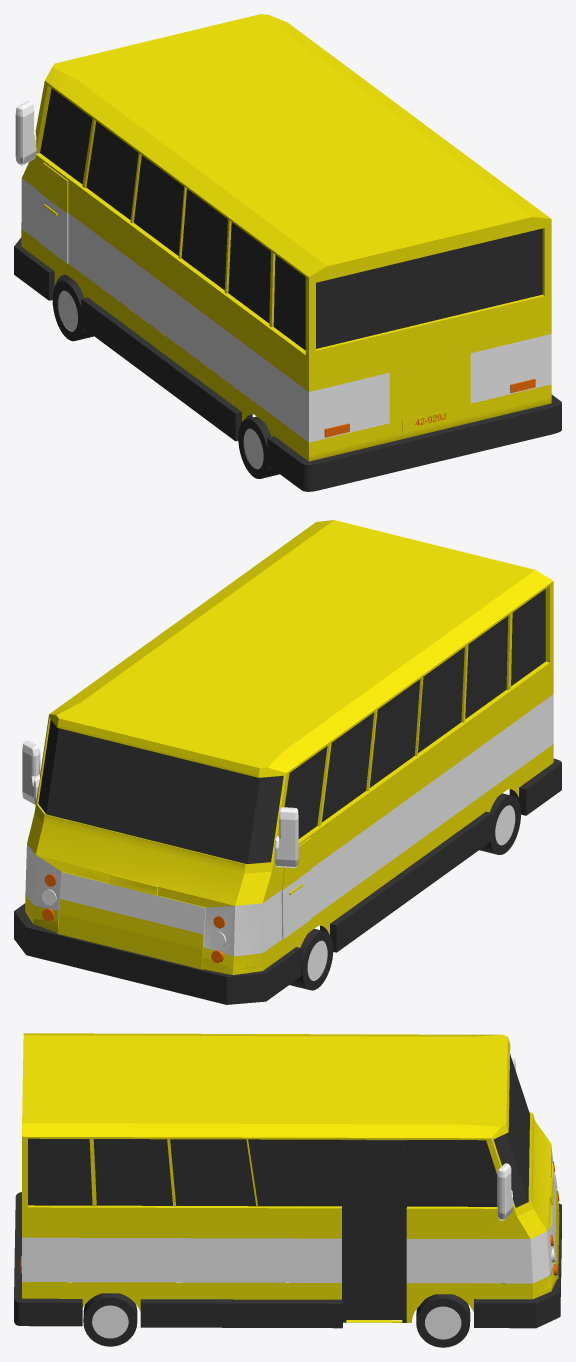
Rendered from bus.glb.
3 renders of one model, top to bottom at view 1: azimuth 30°, elevation 25°; view 2: azimuth 150°, elevation 25°; view 3: azimuth 270°, elevation 25°, orthographic. The views are drawn at different scales.
Visible parts, largest first — view 1: Object3047, Cylinder5440, Object3048; view 2: Object3047, Cylinder5440, Object3048; view 3: Object3047, Cylinder5440, Object3048.
Boxes of the visible parts, x1=… form: Object3047: x1=21, y1=14, x2=551, y2=461; Cylinder5440: x1=14, y1=88, x2=561, y2=491; Object3048: x1=15, y1=100, x2=551, y2=469; Object3047: x1=25, y1=520, x2=553, y2=974; Cylinder5440: x1=14, y1=589, x2=561, y2=1004; Object3048: x1=22, y1=694, x2=553, y2=980; Object3047: x1=22, y1=1033, x2=559, y2=1322; Cylinder5440: x1=14, y1=1054, x2=561, y2=1347; Object3048: x1=22, y1=1052, x2=557, y2=1339.
Size of the model in its own units: 4.68 by 3.88 by 9.
